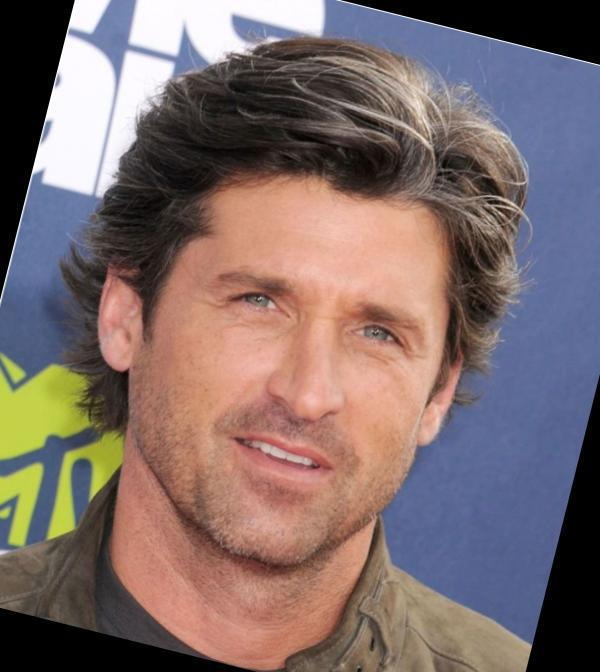Sober: (166, 173, 449, 576)
